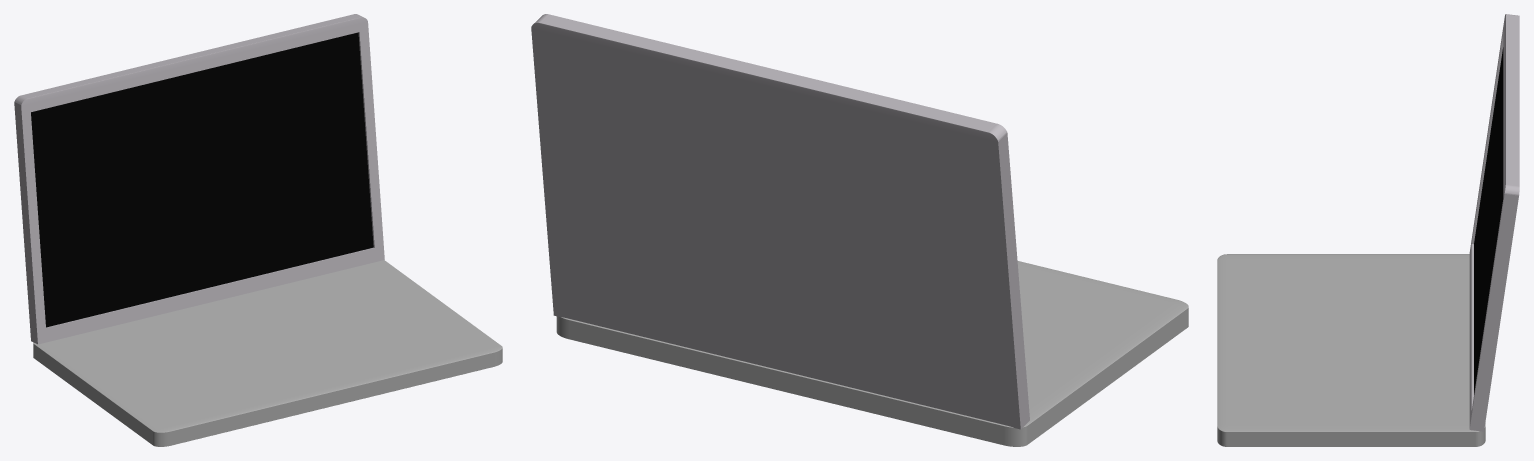
Rendered from computer.glb.
The picture shows the model from 3 angles, left to right: view 1: azimuth 30°, elevation 25°; view 2: azimuth 150°, elevation 25°; view 3: azimuth 270°, elevation 25°; orthographic projection. The views are drawn at different scales.
Visible parts, largest first — view 1: monitor, keybord, display; view 2: display, keybord; view 3: keybord, display, monitor.
Boxes of the visible parts, <box> form: monitor: <box>31,32,373,327</box>; keybord: <box>33,260,502,446</box>; display: <box>14,14,384,344</box>; display: <box>531,14,1029,429</box>; keybord: <box>556,261,1188,446</box>; keybord: <box>1217,254,1485,446</box>; display: <box>1469,14,1519,431</box>; monitor: <box>1474,47,1503,394</box>.
Size of the model in its own units: 2.78 by 1.89 by 2.
3 materials, 2 textured.
